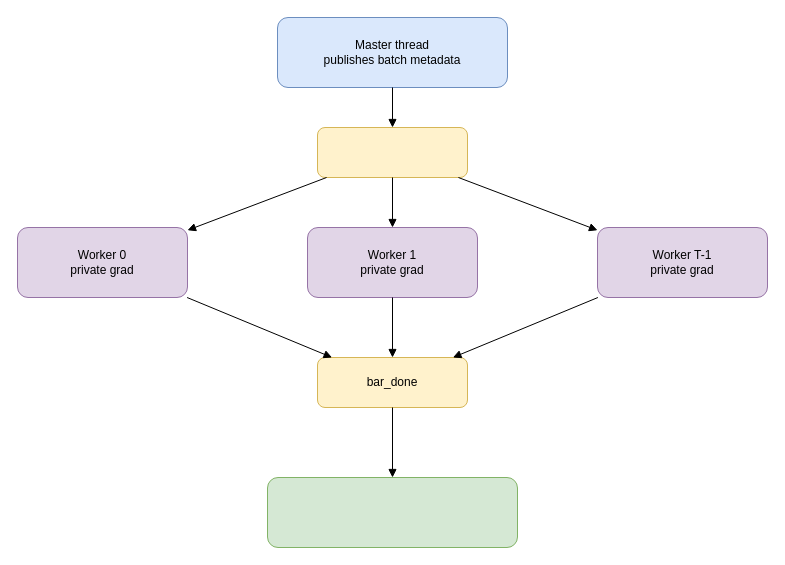
Image size: 785x565. Some labels were removed from this diagram. The shapes that lost their labels are listed below. From the top down, each one's centre as x and y in pixels, then its label:
At point (392, 152): "bar_start".
At point (392, 512): "Master reduces gradients then updates weights".
